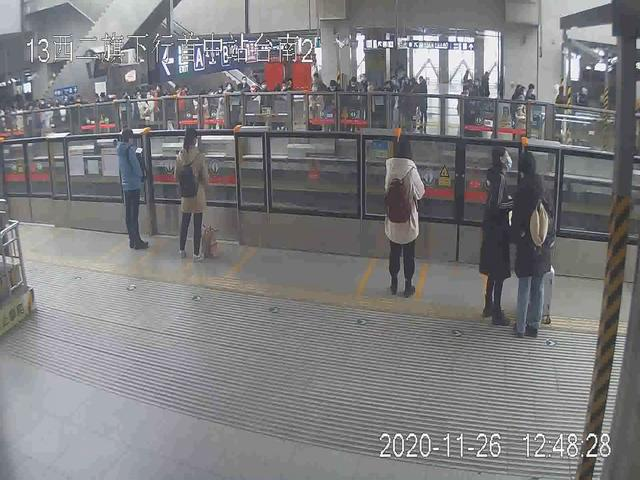person: (512, 151, 553, 340), (380, 136, 423, 294), (173, 126, 217, 261), (481, 139, 511, 324), (110, 128, 153, 252)
